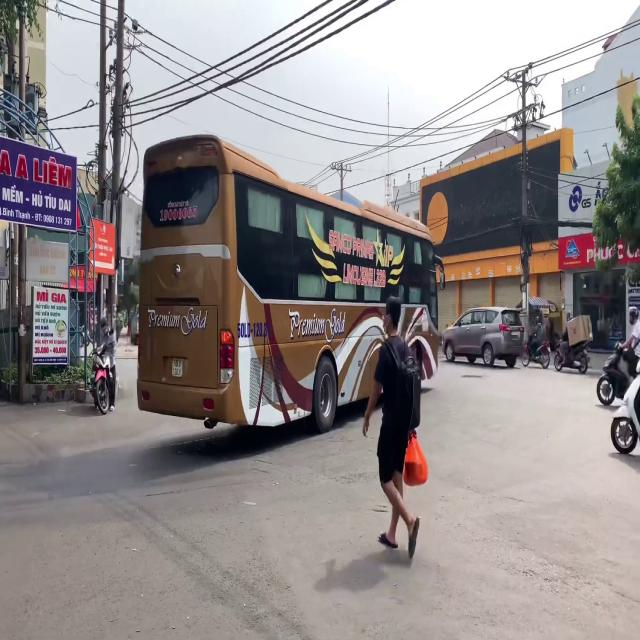bien_trang: (171, 356, 183, 377)
